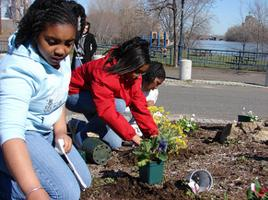person: (2, 1, 95, 200)
